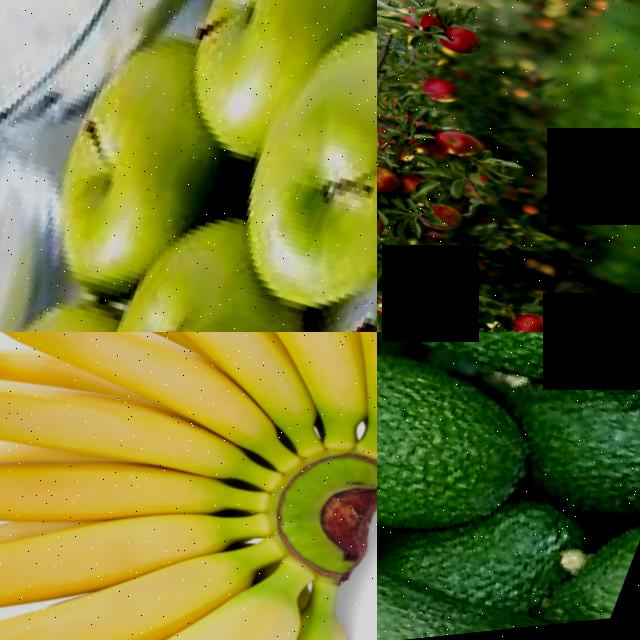apple: (0, 1, 222, 321), (208, 0, 377, 332), (153, 0, 368, 176), (72, 245, 324, 332), (0, 243, 141, 332), (417, 113, 500, 179), (404, 192, 476, 257), (422, 124, 501, 177), (432, 20, 491, 76), (416, 72, 473, 122), (384, 3, 439, 52), (417, 74, 469, 117), (377, 156, 405, 210), (504, 305, 554, 332)
avocado: (377, 332, 566, 598), (377, 332, 640, 451), (377, 532, 601, 640)
banana: (0, 332, 377, 640)
